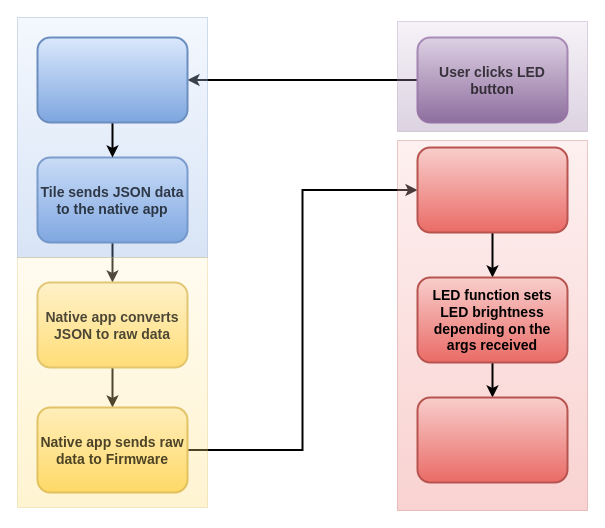
Some shapes in this 605 by 528 pixel diagram are drawn without their labels. The centre of each missing label's shape, as x and y in pixels:
Firmware calles appropriate LED function according to the command received: the point at 492,189
Firmware runs a loop which keeps LED light on: the point at 492,439
Tile converts associated commands and args to JSON using control file: the point at 112,79
